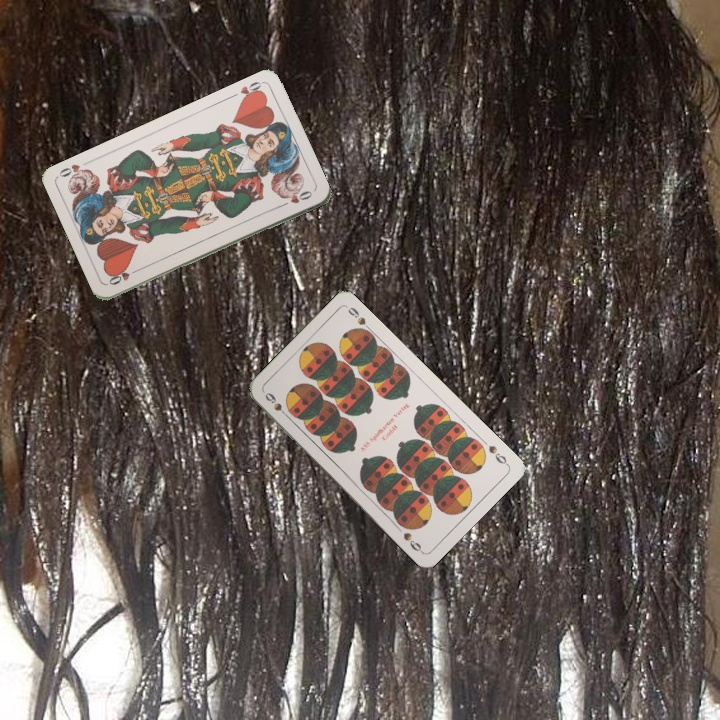HO: (227, 77, 266, 104), (105, 264, 143, 288)
S9: (261, 388, 292, 421), (484, 441, 511, 468)
